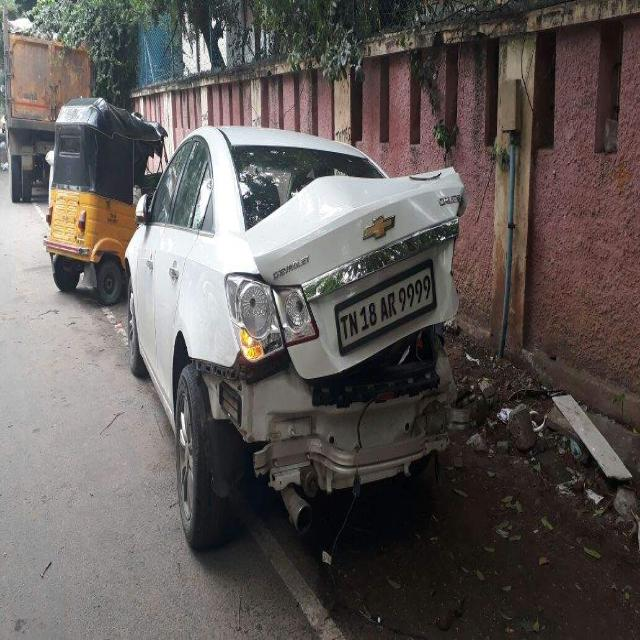accident: (126, 127, 465, 548)
autorickshaw: (45, 98, 165, 303)
truck: (4, 16, 91, 202)
